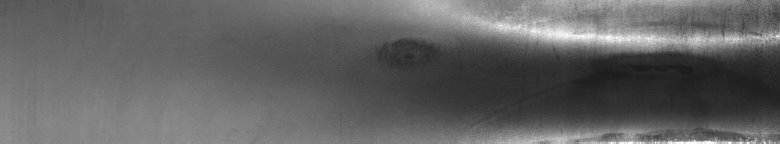ke: (376, 4, 776, 136)
